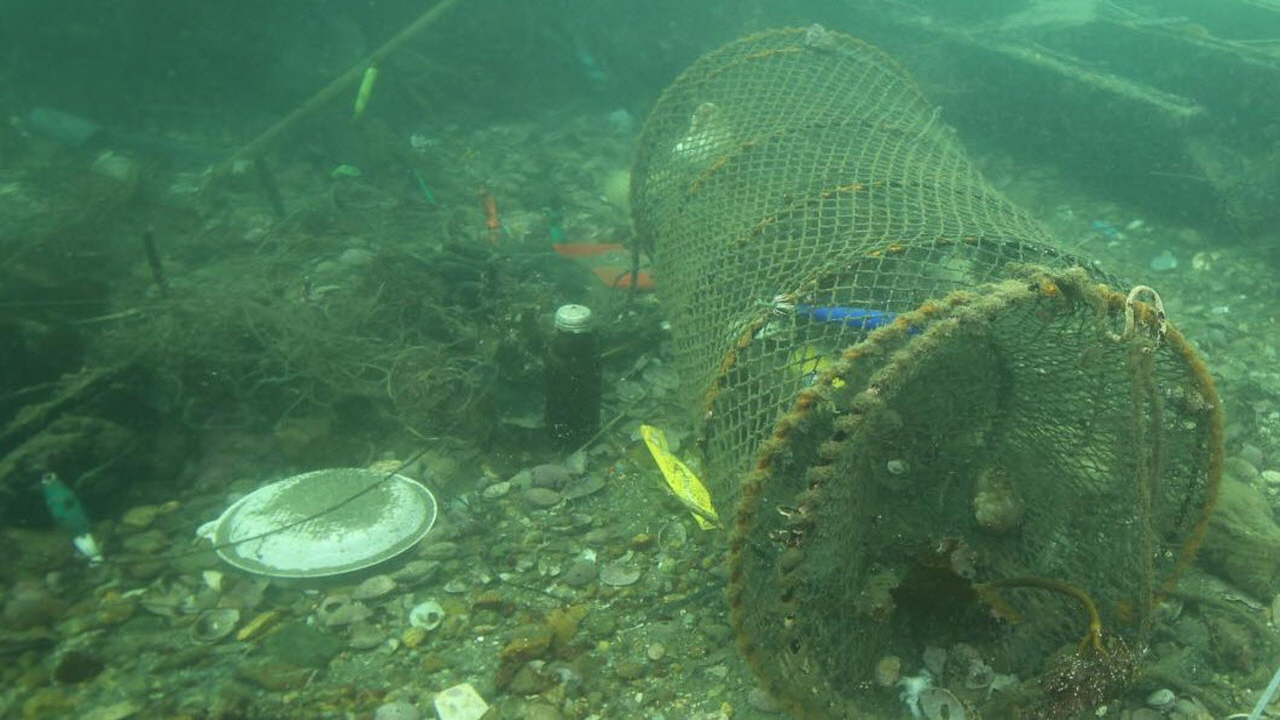spring fish trap: (626, 25, 1224, 720)
